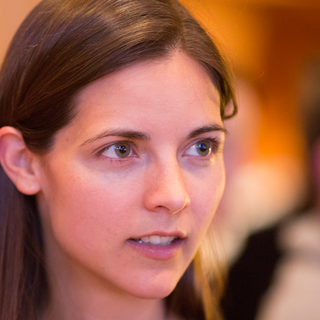eye: (91, 135, 143, 165), (172, 134, 224, 161)
